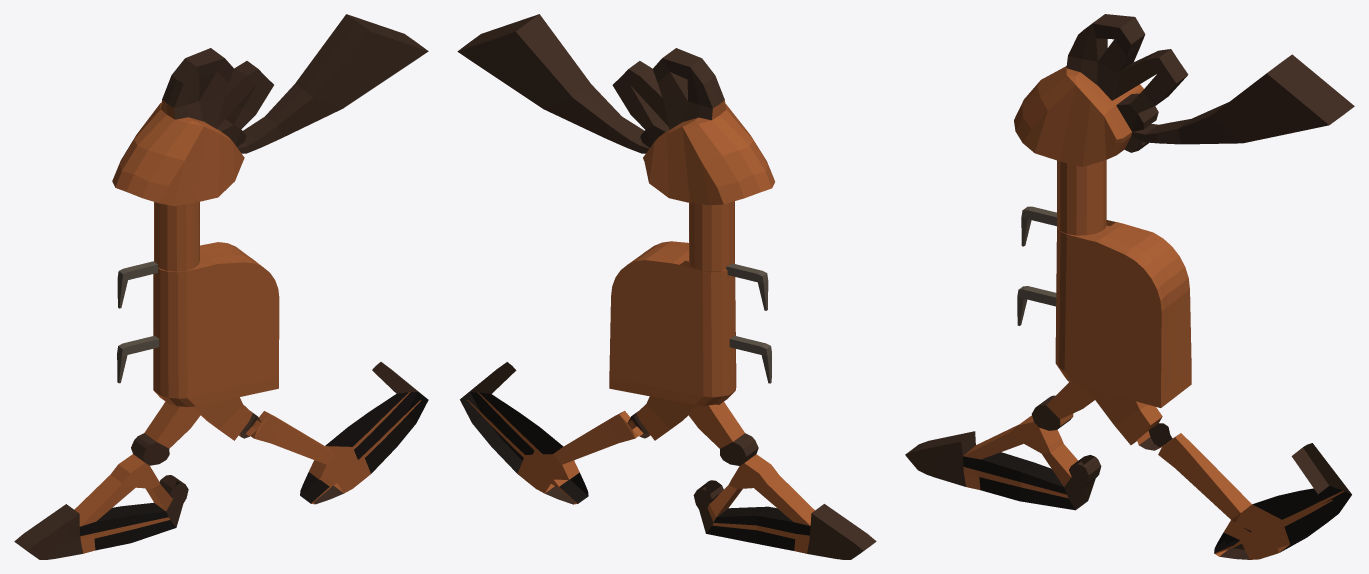
File: personagem.obj
3 views of the same model, side by side, from view 1: azimuth 30°, elevation 25°; view 2: azimuth 150°, elevation 25°; view 3: azimuth 330°, elevation 25° (orthographic). The views are drawn at different scales.
Parts seen in each view (by area): view 1: cabeca, pernas, corpo, pescoco, braco1, braco2; view 2: cabeca, pernas, corpo, pescoco, braco1, braco2; view 3: cabeca, pernas, corpo, pescoco, braco1, braco2.
Boxes of the visible parts, bbox=[...] form: cabeca: bbox=[112, 14, 428, 206]; pernas: bbox=[14, 362, 428, 559]; corpo: bbox=[153, 242, 279, 406]; pescoco: bbox=[154, 202, 199, 271]; braco1: bbox=[117, 335, 159, 383]; braco2: bbox=[117, 261, 158, 308]; cabeca: bbox=[457, 14, 774, 205]; pernas: bbox=[460, 362, 876, 559]; corpo: bbox=[609, 241, 736, 405]; pescoco: bbox=[689, 201, 734, 271]; braco1: bbox=[729, 335, 771, 383]; braco2: bbox=[726, 263, 768, 310]; cabeca: bbox=[1014, 14, 1354, 166]; pernas: bbox=[905, 382, 1351, 559]; corpo: bbox=[1055, 220, 1191, 407]; pescoco: bbox=[1057, 160, 1106, 235]; braco1: bbox=[1017, 286, 1056, 325]; braco2: bbox=[1021, 206, 1056, 246].
Bounding box in the file's own units: 226 × 251 × 41.15.
